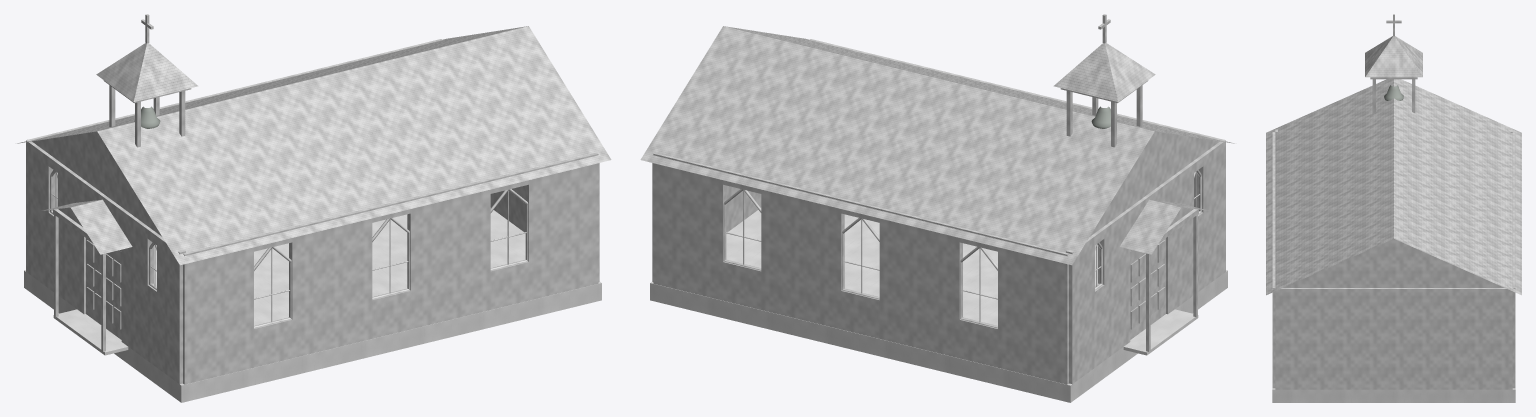
File: SM_Town_Church_Shell.glb
The picture shows the model from 3 angles, left to right: view 1: azimuth 30°, elevation 25°; view 2: azimuth 150°, elevation 25°; view 3: azimuth 270°, elevation 25°; orthographic projection. The views are drawn at different scales.
Visible parts, largest first — view 1: SM_Town_Church_Shell; view 2: SM_Town_Church_Shell; view 3: SM_Town_Church_Shell.
Boxes of the visible parts, x1,y1,x2,y2 form: SM_Town_Church_Shell: [17, 14, 611, 402]; SM_Town_Church_Shell: [640, 14, 1234, 402]; SM_Town_Church_Shell: [1266, 14, 1521, 402].
Size of the model in its own units: 15.5 by 10.33 by 9.7.
7 materials, 5 textured.
